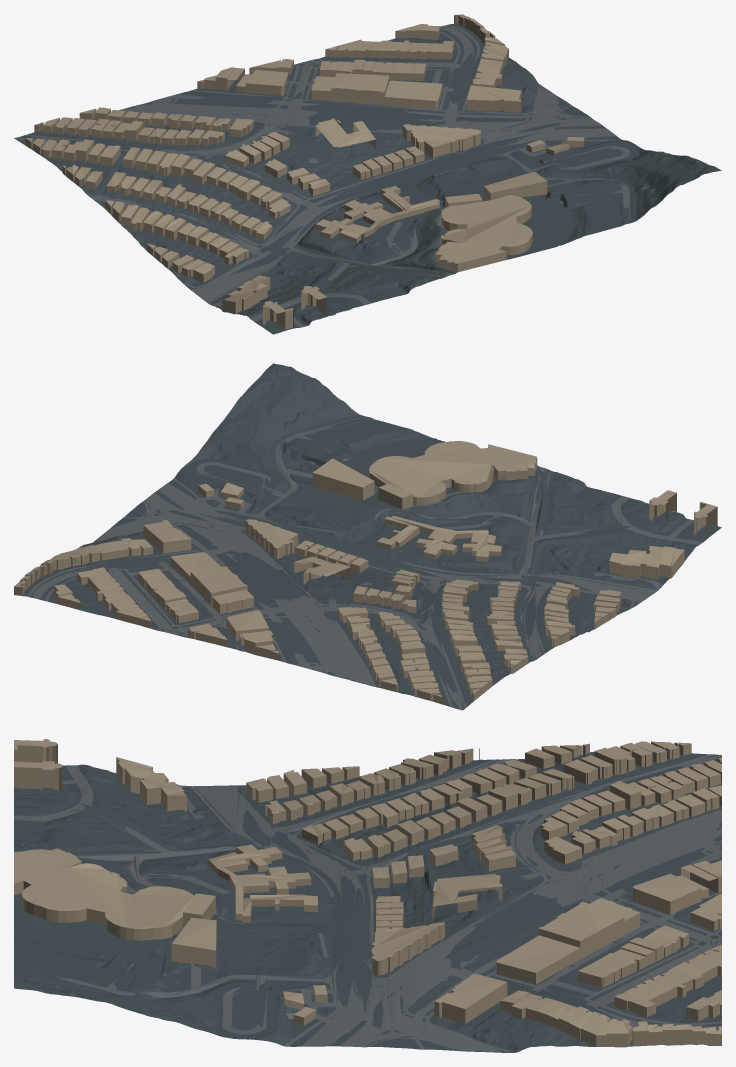
File: epsg26910-1427-10879.lod0.glb
3 views of the same model, one above another, from view 1: azimuth 30°, elevation 25°; view 2: azimuth 150°, elevation 25°; view 3: azimuth 270°, elevation 25° (orthographic). The views are drawn at different scales.
Parts seen in each view (by area): view 1: epsg26910-1427-10879-lod0; view 2: epsg26910-1427-10879-lod0; view 3: epsg26910-1427-10879-lod0.
Part boxes in pixels (x1,y1,x2,y2): epsg26910-1427-10879-lod0: (14,14,721,334); epsg26910-1427-10879-lod0: (14,363,721,710); epsg26910-1427-10879-lod0: (14,739,721,1052).
Size of the model in its own units: 384 by 58.84 by 384.
